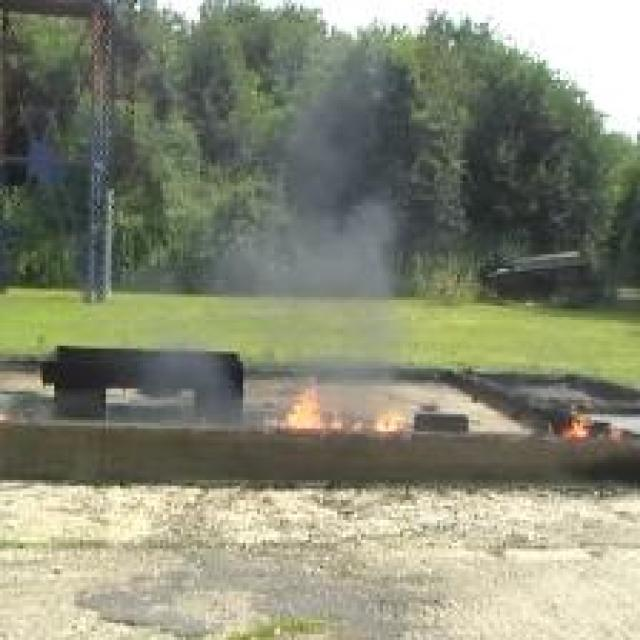Fire: (267, 386, 324, 428), (376, 408, 404, 428)
